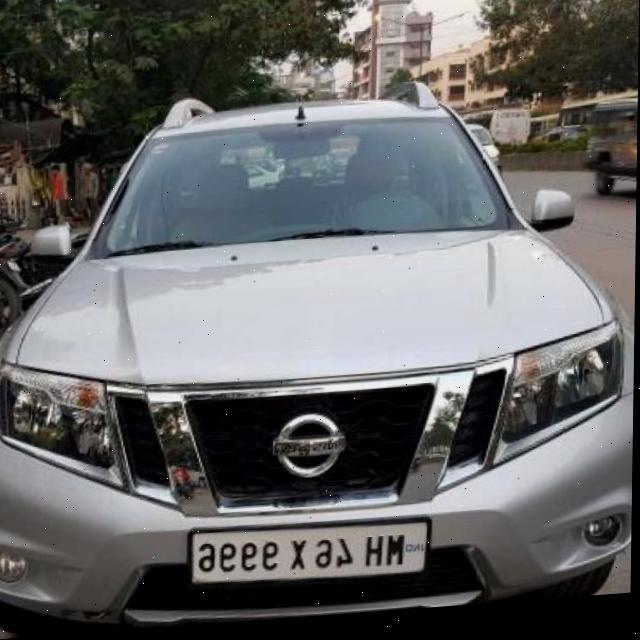plate: (190, 519, 434, 592)
